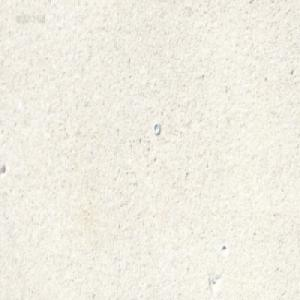Washer: (153, 120, 160, 134)
